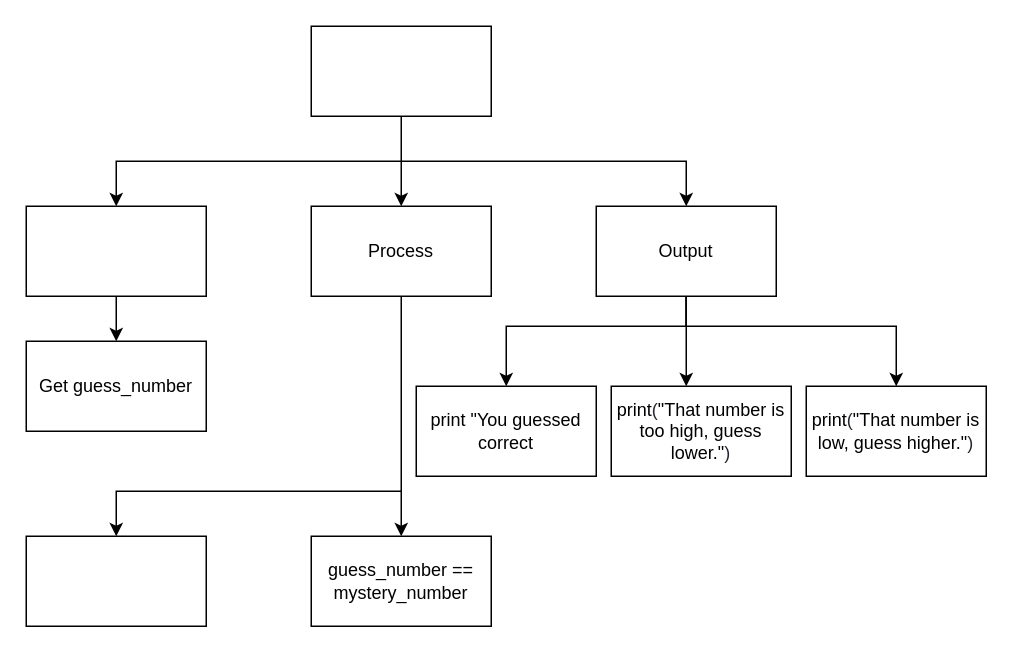
Image size: 1013x653. Some labels were removed from this diagram. Each missing label, with the centre of its shape:
"guessing_game_loop" goes at point 400,70.
"If guess_number > mystery_number" goes at point 115,580.
"Input" goes at point 115,250.
